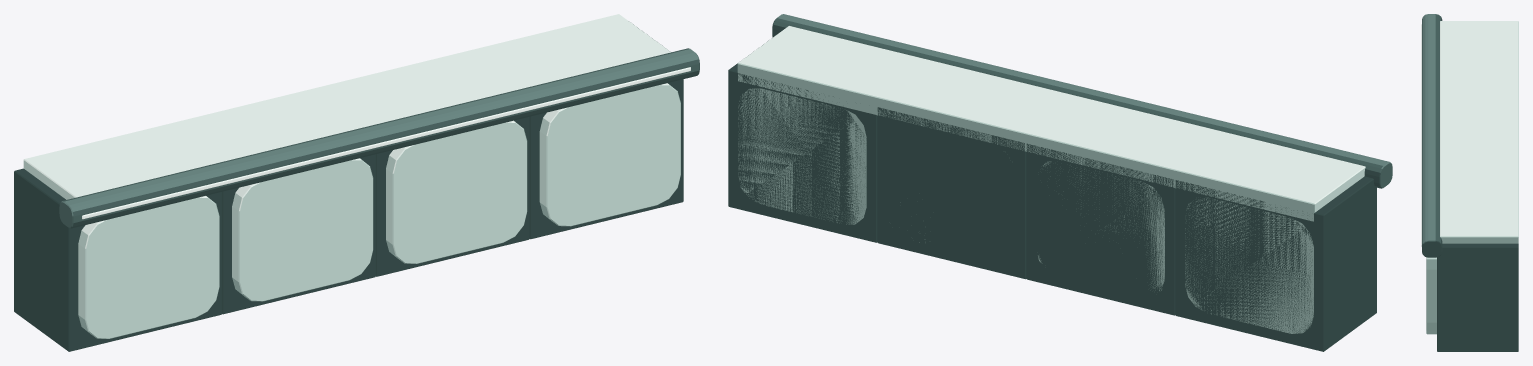
The model's file is Terrain_TopRun4LR.gltf.
3 renders of one model, left to right at view 1: azimuth 30°, elevation 25°; view 2: azimuth 150°, elevation 25°; view 3: azimuth 270°, elevation 25°, orthographic. The views are drawn at different scales.
Visible parts, largest first — view 1: Terrain_TopRun4LR_baked; view 2: Terrain_TopRun4LR_baked; view 3: Terrain_TopRun4LR_baked.
Boxes of the visible parts, bbox=[...] form: Terrain_TopRun4LR_baked: bbox=[14, 14, 699, 351]; Terrain_TopRun4LR_baked: bbox=[728, 14, 1392, 351]; Terrain_TopRun4LR_baked: bbox=[1421, 14, 1518, 351].
Bounding box in the file's own units: 4.08 × 0.9495 × 0.74.
